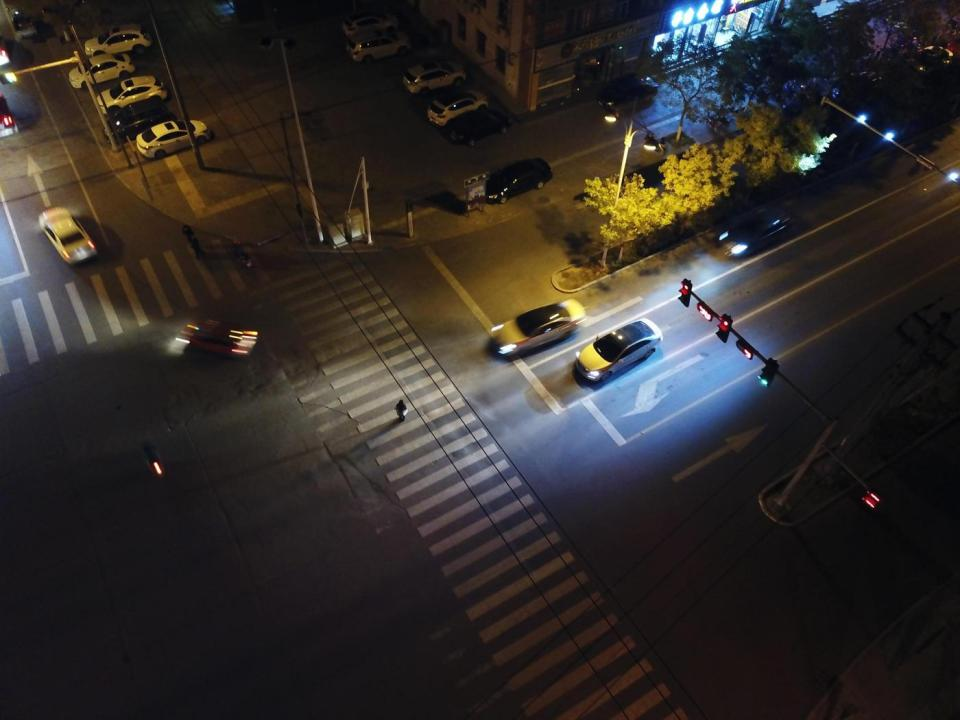car: (490, 298, 587, 361), (575, 317, 664, 384), (717, 204, 800, 257), (102, 97, 177, 145), (38, 207, 98, 266), (482, 158, 553, 205), (177, 318, 258, 358), (136, 120, 214, 159), (97, 74, 169, 114), (445, 108, 512, 148), (84, 23, 154, 58), (428, 88, 490, 127), (597, 72, 660, 109), (69, 54, 135, 89), (403, 61, 467, 96), (346, 30, 411, 63), (341, 10, 398, 39), (903, 44, 953, 74), (769, 64, 804, 99), (839, 64, 883, 87), (11, 9, 38, 38), (886, 11, 920, 31)
